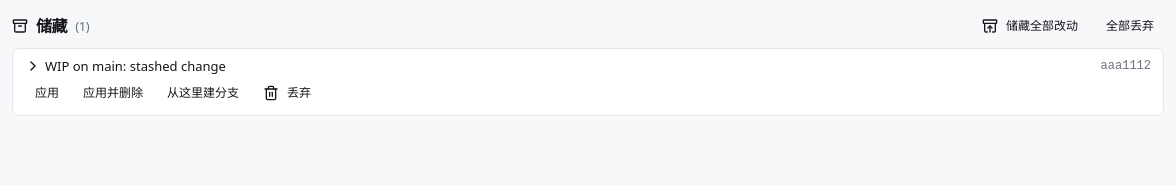
Test: 储藏面板 › 应用冲突时展示横幅并列出冲突文件，而不是弹错误
The image size is (1176, 185).
Expected: the list with test id "stash-list" is shown, [12,48,1164,116]
Click the button with test id "stash-apply-0". click: (47, 93)
box: [25,79,69,107]
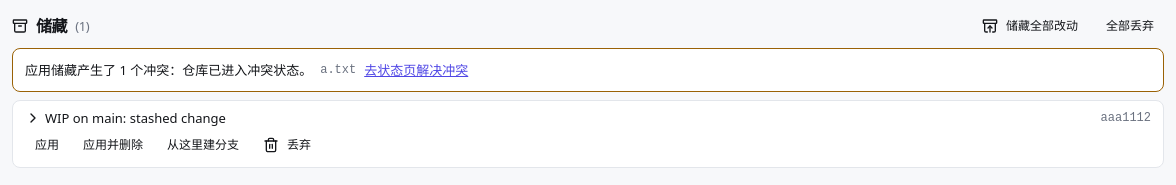
Now the element with test id "stash-conflict-banner" shows "仓库已进入冲突状态", box [25,61,312,79]
Now the element with test id "stash-conflict-banner" shows "a.txt", box [320,63,356,77]
